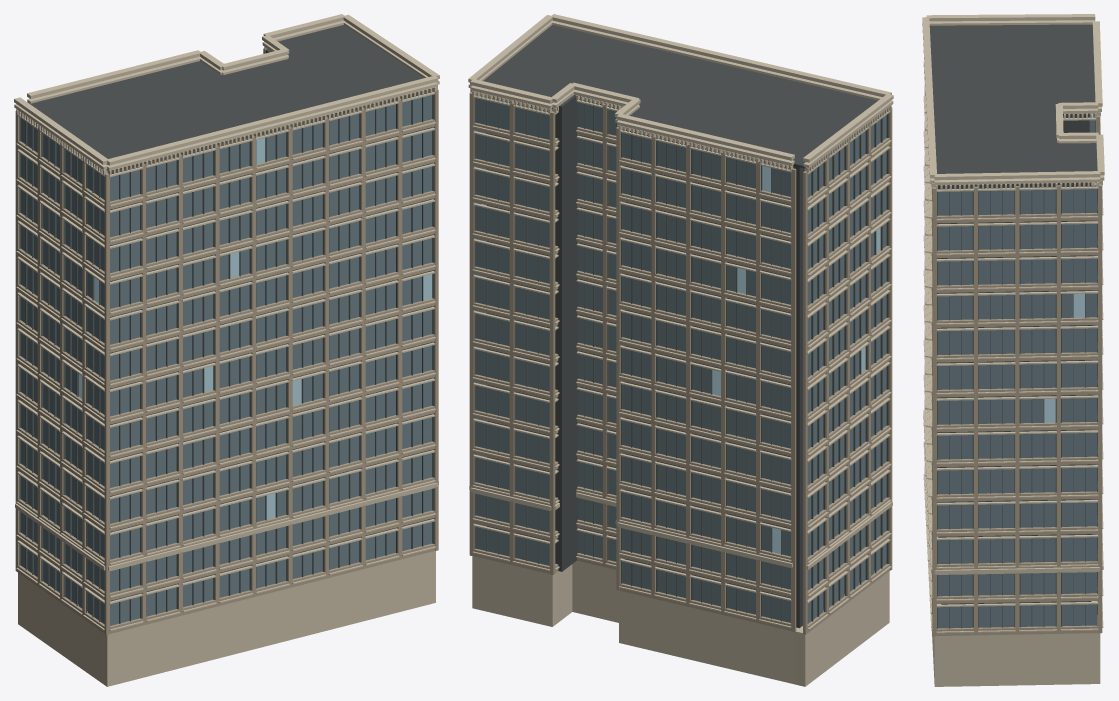
The model's file is sharp_building.glb.
3 views of the same model, side by side, from view 1: azimuth 30°, elevation 25°; view 2: azimuth 150°, elevation 25°; view 3: azimuth 270°, elevation 25° (orthographic). The views are drawn at different scales.
Parts seen in each view (by area): view 1: Sharp recessed blue grey panes, Sharp pale terracotta surrounds, Sharp warm tan brick, Sharp dark recessed interior and roof, Sharp dark cast iron window frames, Night occupied Sharp panes; view 2: Sharp recessed blue grey panes, Sharp warm tan brick, Sharp pale terracotta surrounds, Sharp dark recessed interior and roof, Sharp dark cast iron window frames, Night occupied Sharp panes; view 3: Sharp recessed blue grey panes, Sharp pale terracotta surrounds, Sharp dark recessed interior and roof, Sharp warm tan brick, Sharp dark cast iron window frames, Night occupied Sharp panes.
Part boxes in pixels (bbox=[...]): Sharp recessed blue grey panes: bbox=[21, 92, 432, 625]; Sharp pale terracotta surrounds: bbox=[14, 14, 439, 686]; Sharp warm tan brick: bbox=[15, 48, 438, 634]; Sharp dark recessed interior and roof: bbox=[29, 25, 423, 623]; Sharp dark cast iron window frames: bbox=[19, 91, 433, 623]; Night occupied Sharp panes: bbox=[78, 138, 432, 519]; Sharp recessed blue grey panes: bbox=[476, 92, 886, 623]; Sharp warm tan brick: bbox=[469, 92, 892, 634]; Sharp pale terracotta surrounds: bbox=[468, 14, 893, 686]; Sharp dark recessed interior and roof: bbox=[483, 25, 877, 628]; Sharp dark cast iron window frames: bbox=[474, 94, 888, 621]; Night occupied Sharp panes: bbox=[481, 166, 880, 553]; Sharp recessed blue grey panes: bbox=[937, 113, 1097, 628]; Sharp pale terracotta surrounds: bbox=[922, 14, 1104, 686]; Sharp dark recessed interior and roof: bbox=[929, 24, 1097, 627]; Sharp warm tan brick: bbox=[924, 78, 1102, 636]; Sharp dark cast iron window frames: bbox=[937, 120, 1097, 628]; Night occupied Sharp panes: bbox=[1044, 293, 1084, 422].
Size of the model in its own units: 54.3 by 79.5 by 25.7.
